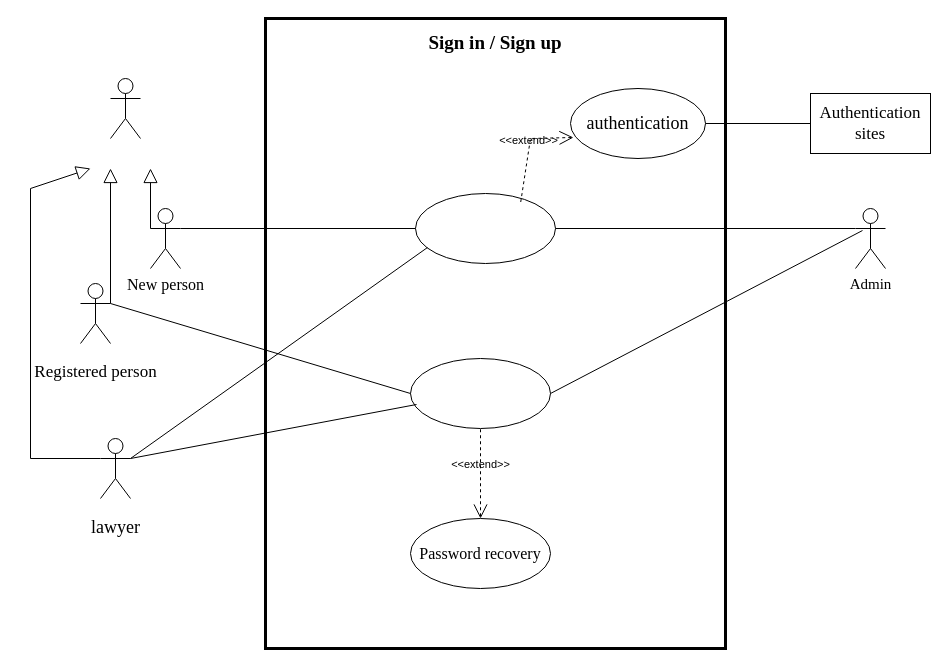
Some shapes in this 948 by 667 pixel diagram are drawn without their labels. Each missing label, with the box of its shape:
Normal person: (110, 78, 140, 138)
Sign in: (410, 358, 550, 428)
Sign up: (414, 192, 556, 264)
